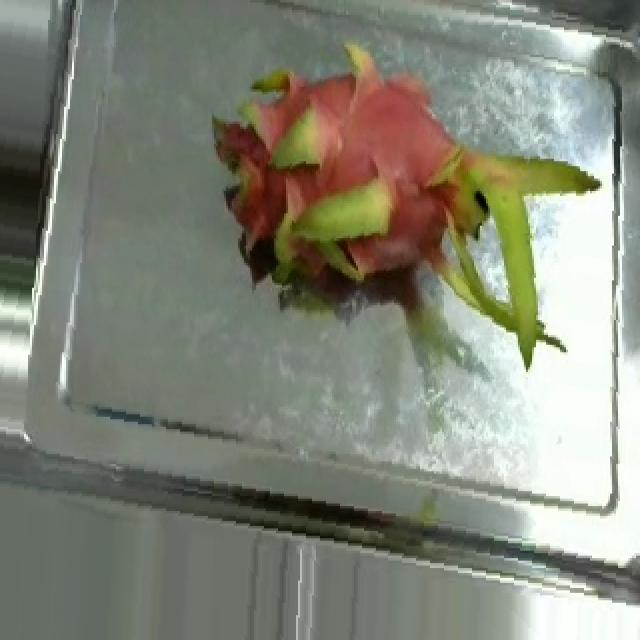fruit: (192, 8, 610, 384)
